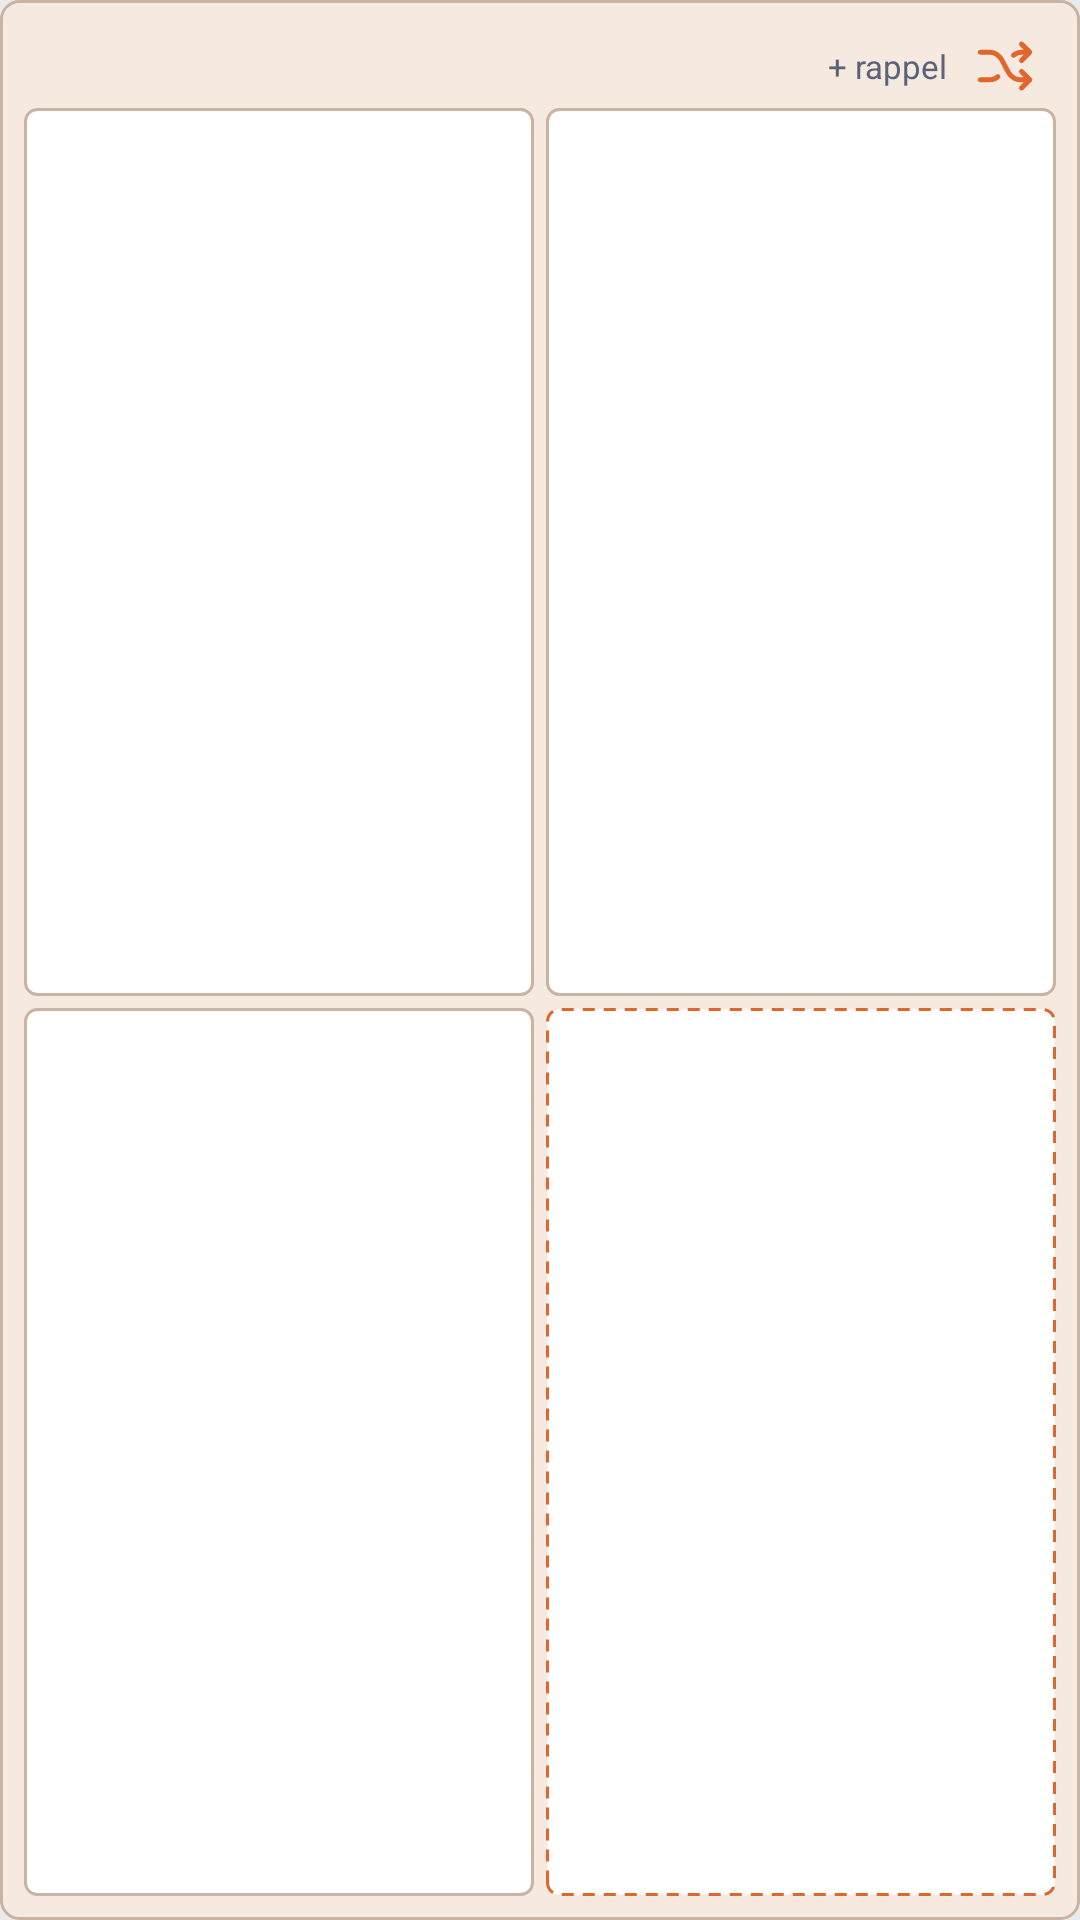

Icons on this 1080x1920 Android screen, each with its box as (x1, y1, x2, y2):
Mélanger les kanji: (978, 41, 1033, 91)
